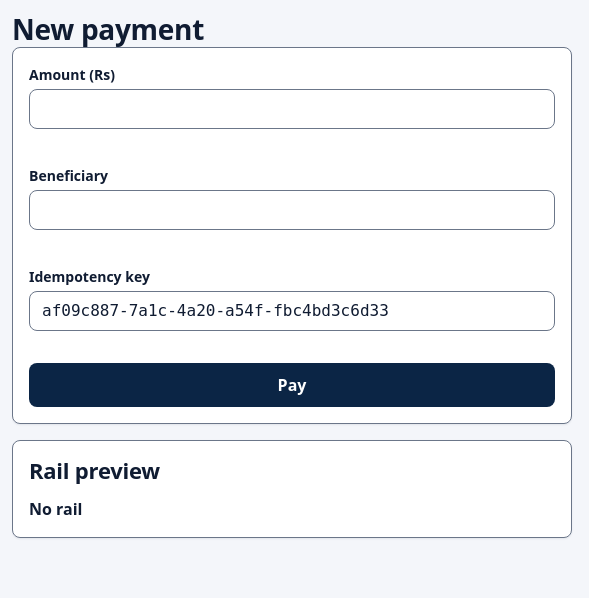
Test: client validation for zero and empty beneficiary
Type "0" into the field labelled "Amount (Rs)" at (292, 109), box [29,89,555,129]
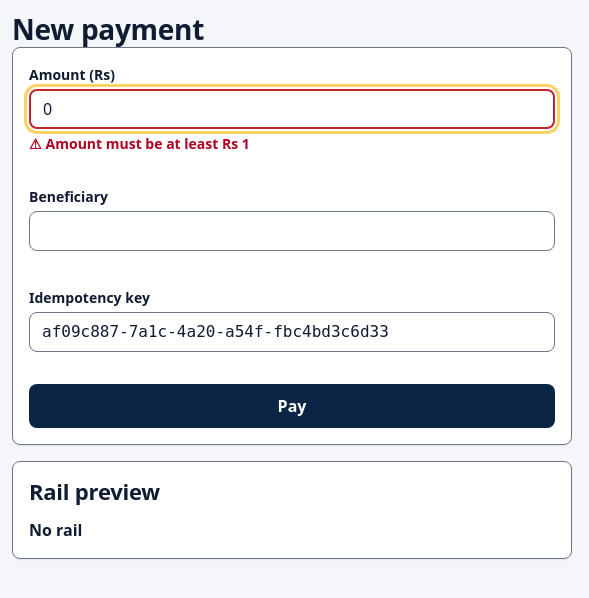
Expected: the text "Amount must be at least Rs 1" is shown, [46,134,250,153]
Click the button "Pay" at (292, 406), box [29,384,555,428]
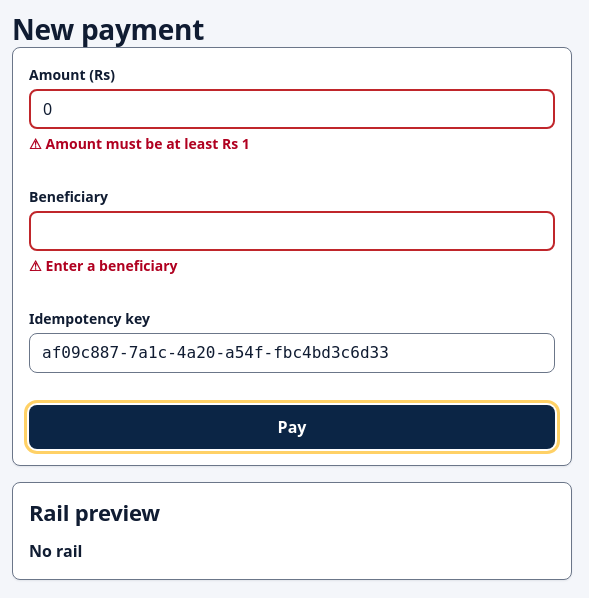
Expected: the text "Enter a beneficiary" is shown, [46,256,178,275]
